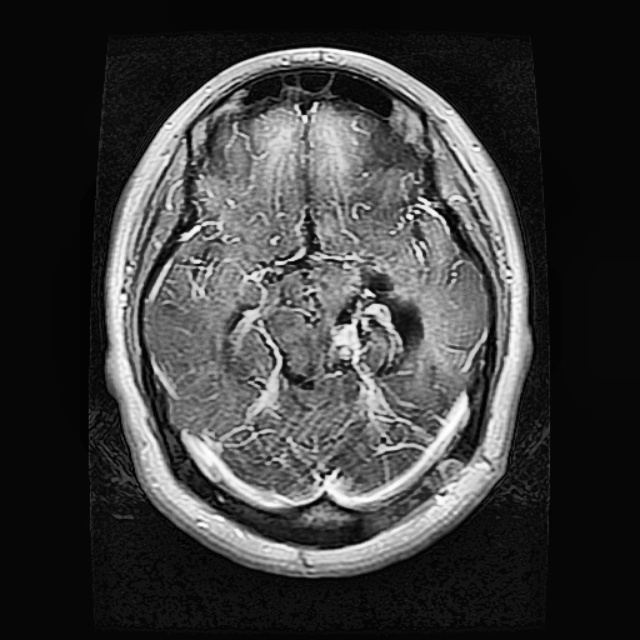Meningioma: (319, 253, 428, 383)
